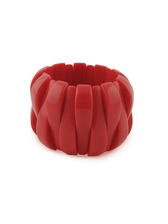other: (26, 63, 140, 157)
